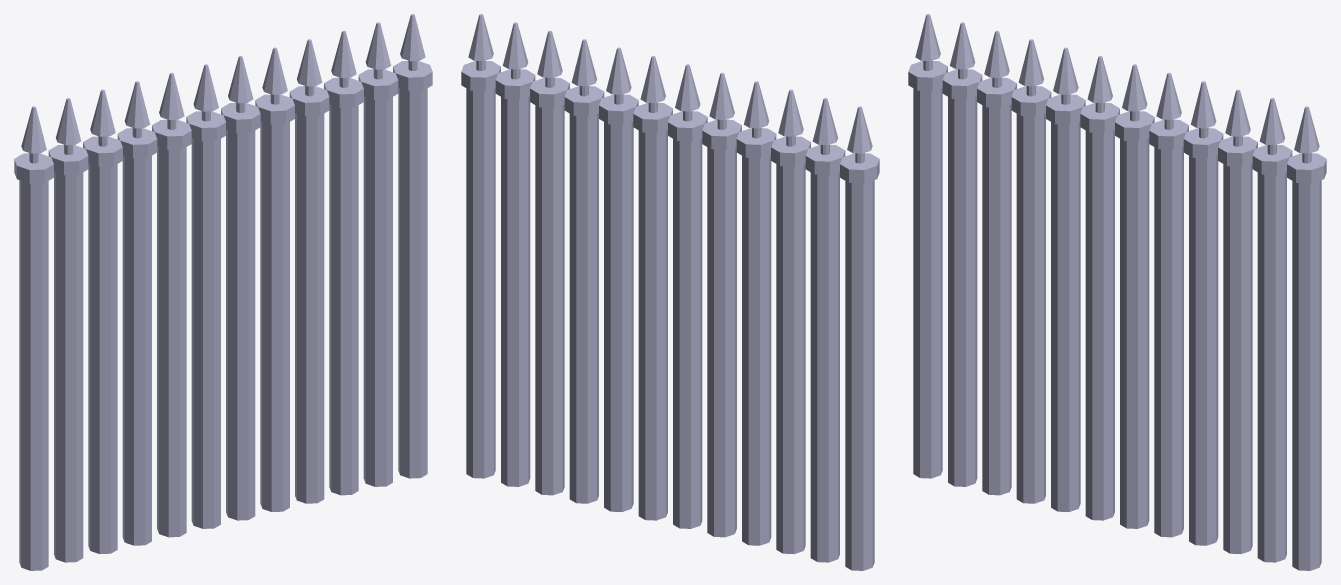
Rendered from reja.fbx.
The picture shows the model from 3 angles, left to right: view 1: azimuth 30°, elevation 25°; view 2: azimuth 150°, elevation 25°; view 3: azimuth 330°, elevation 25°; orthographic projection.
Visible parts, largest first — view 1: Circle; view 2: Circle; view 3: Circle.
Boxes of the visible parts, x1,y1,x2,y2 form: Circle: [14, 14, 432, 570]; Circle: [461, 14, 879, 570]; Circle: [908, 14, 1326, 570].
Bounding box in the file's own units: 813 × 860 × 74.1.
